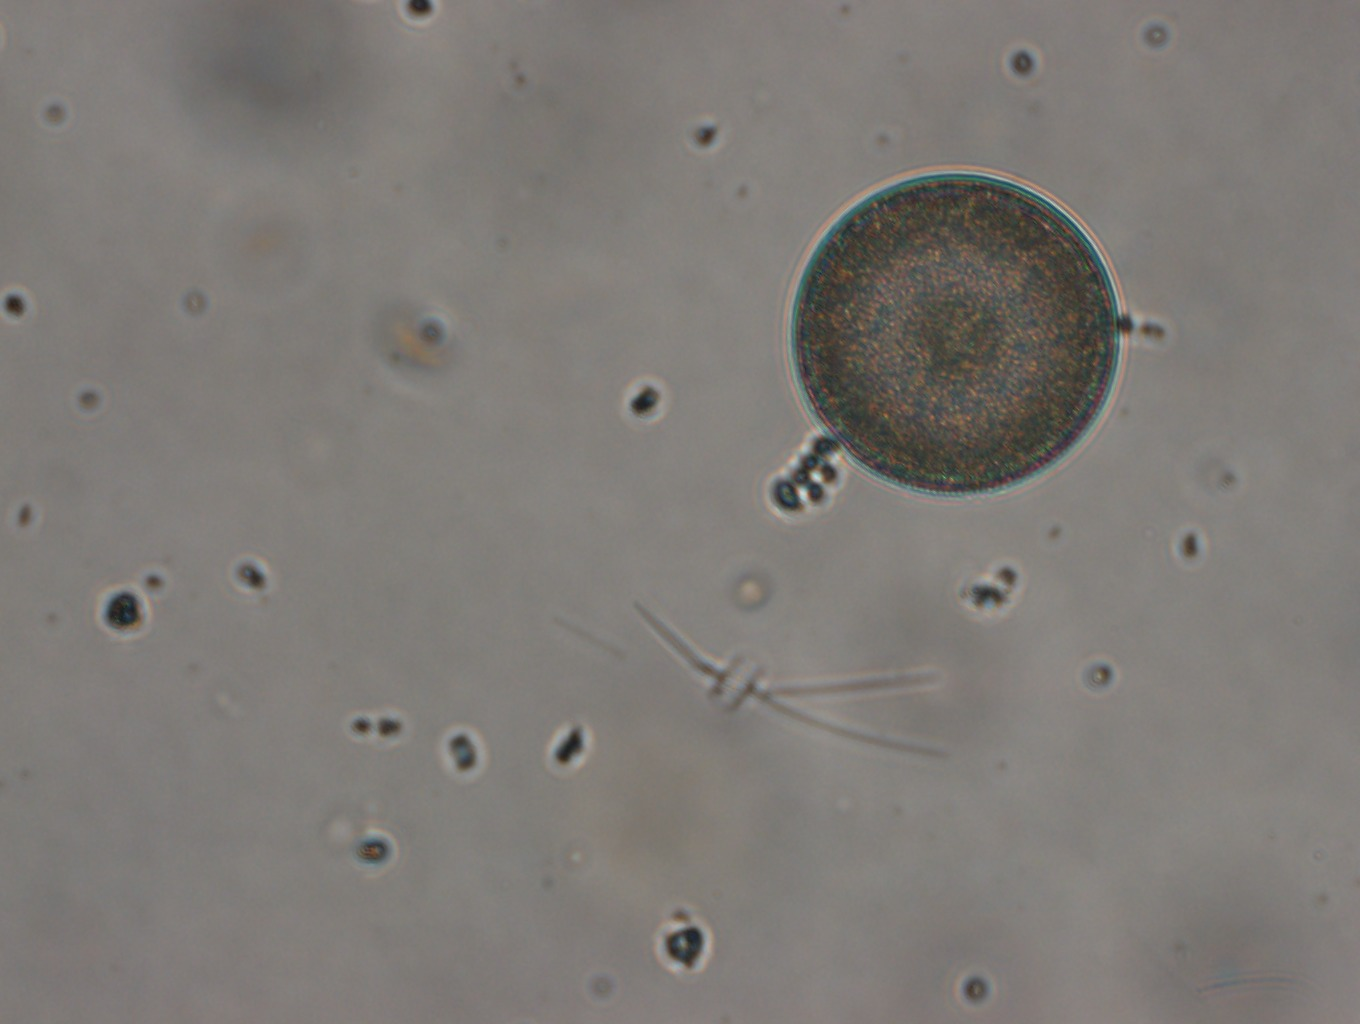coscinodiscus: (781, 165, 1132, 510)
